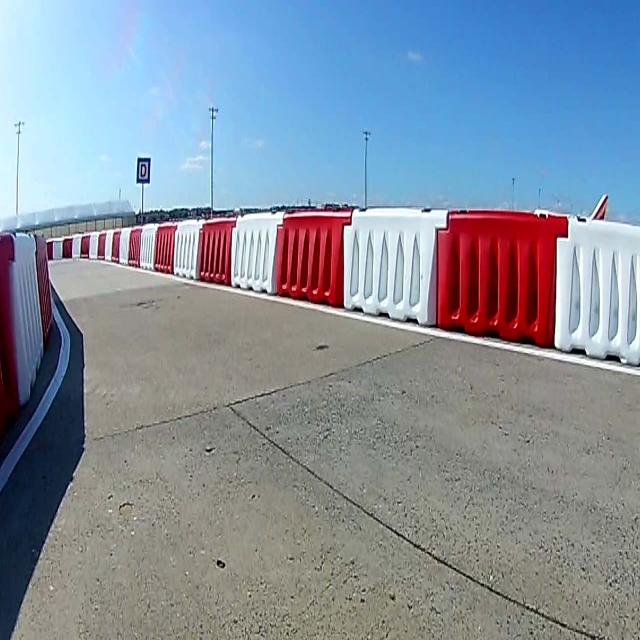durak: (136, 157, 150, 184)
